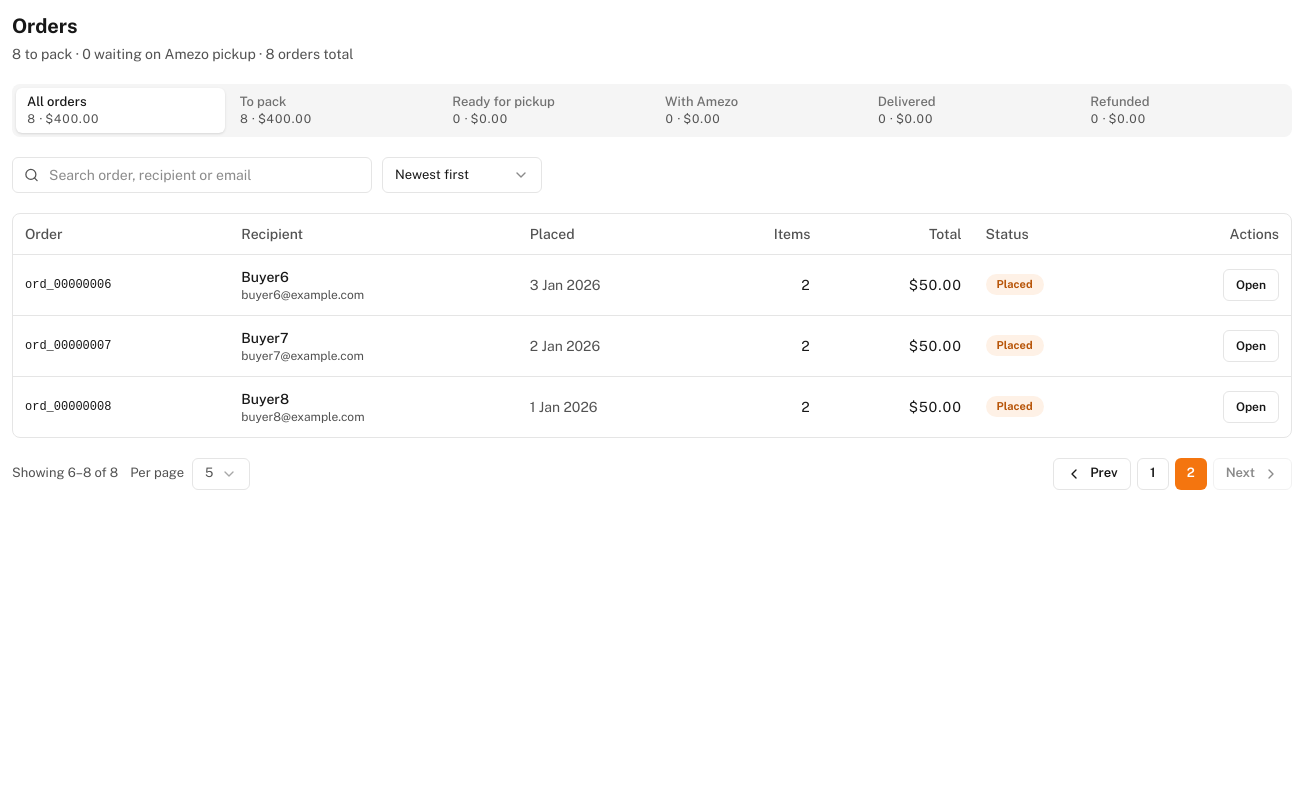
Scenario: SellerOrders › goes back to the first page when the page size changes
Check: the text "Buyer6" is shown, box 241,268 -> 289,284
Click the dropdown named "Rows per page" at (221, 474), box 192,458 -> 250,490
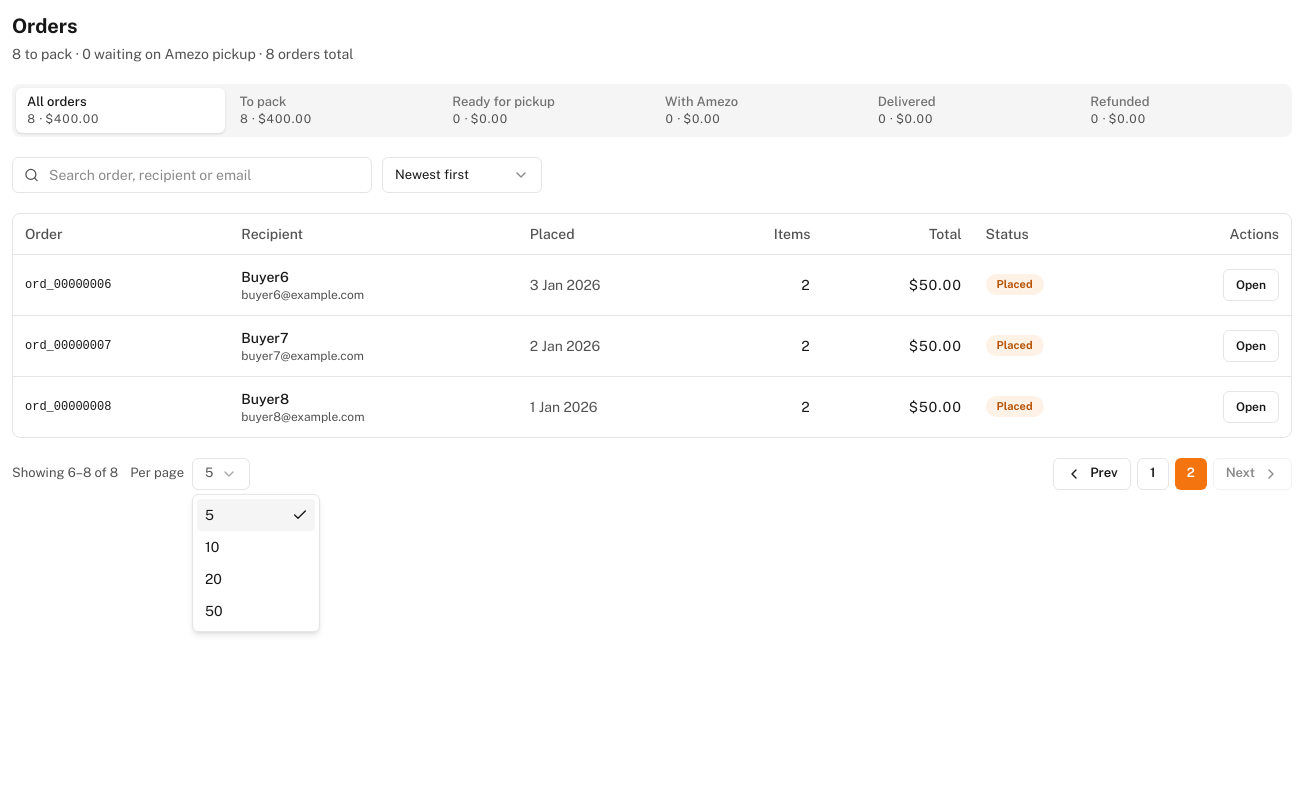
Click the option "20" at (213, 579), box 205,571 -> 222,587
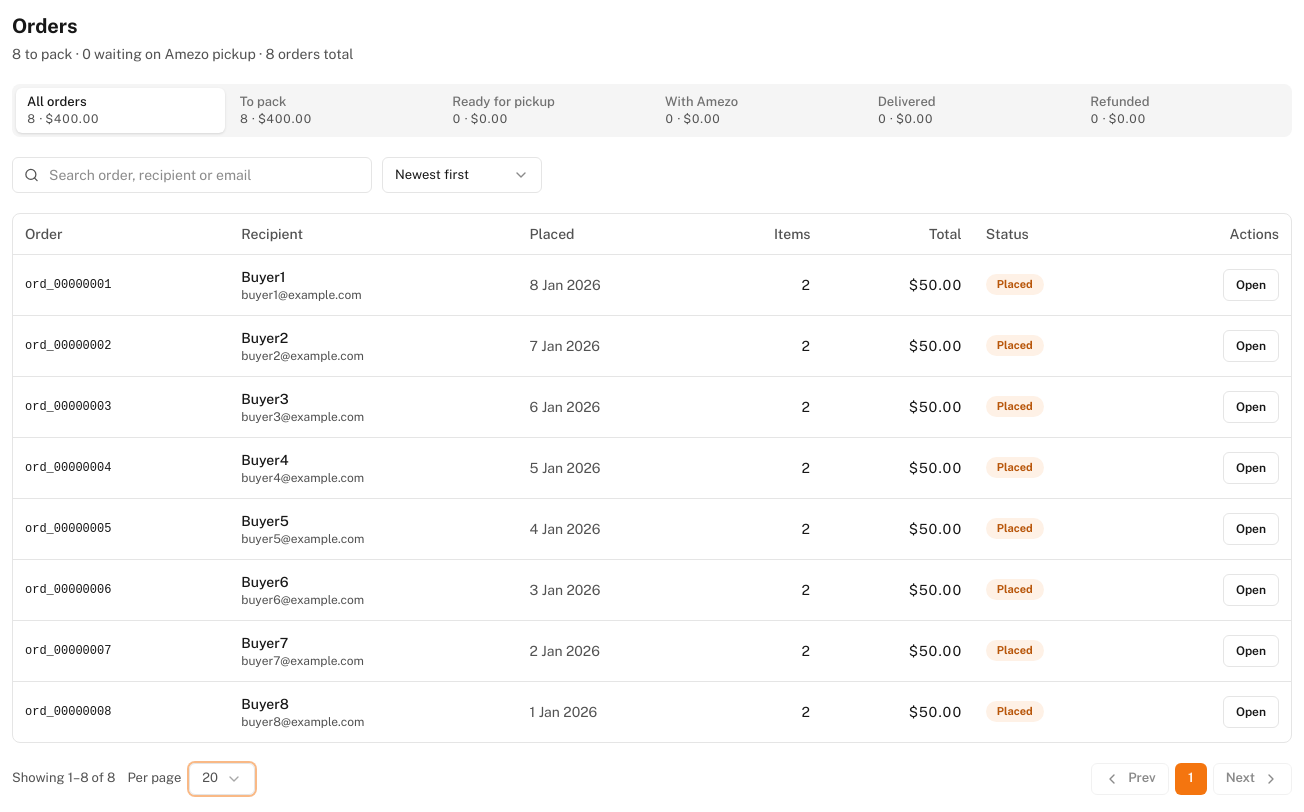
Check: the text "Buyer1" is shown, box 241,268 -> 286,284
